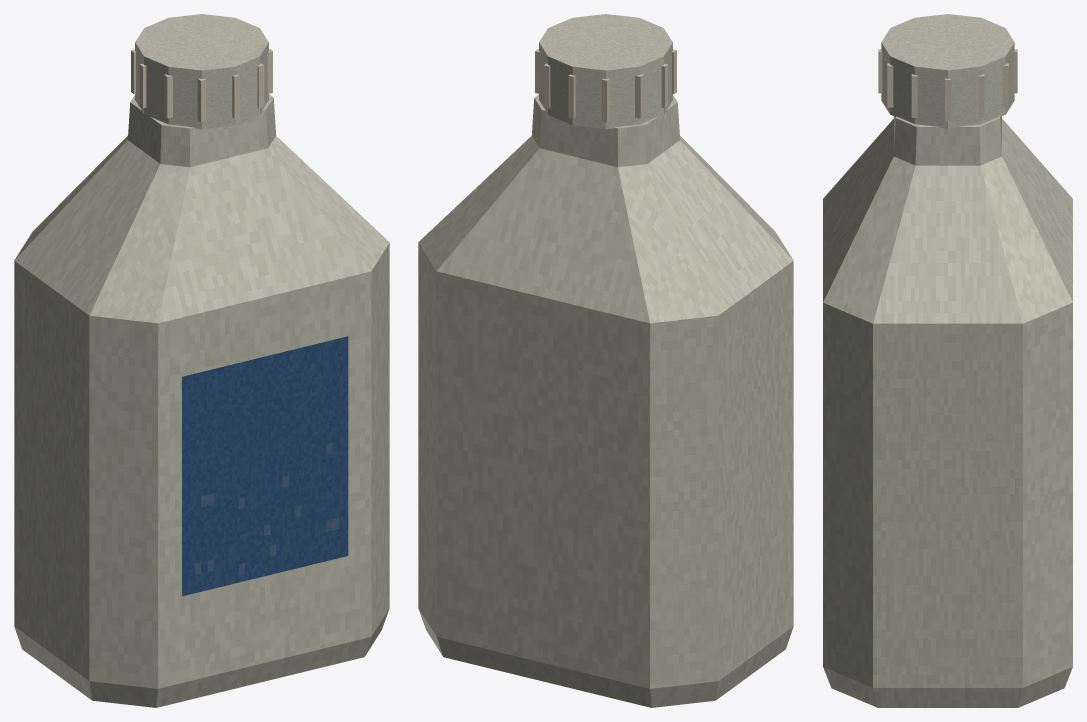
The model's file is cleaner_jug.glb.
The picture shows the model from 3 angles, left to right: view 1: azimuth 30°, elevation 25°; view 2: azimuth 150°, elevation 25°; view 3: azimuth 270°, elevation 25°; orthographic projection.
Visible parts, largest first — view 1: cleaner_jug; view 2: cleaner_jug; view 3: cleaner_jug.
Boxes of the visible parts, x1=… form: cleaner_jug: x1=14, y1=14, x2=389, y2=707; cleaner_jug: x1=418, y1=14, x2=793, y2=707; cleaner_jug: x1=823, y1=14, x2=1072, y2=707.
Bounding box in the file's own units: 0.166 × 0.3155 × 0.1205.
Materials: 3 (3 with a texture image).
